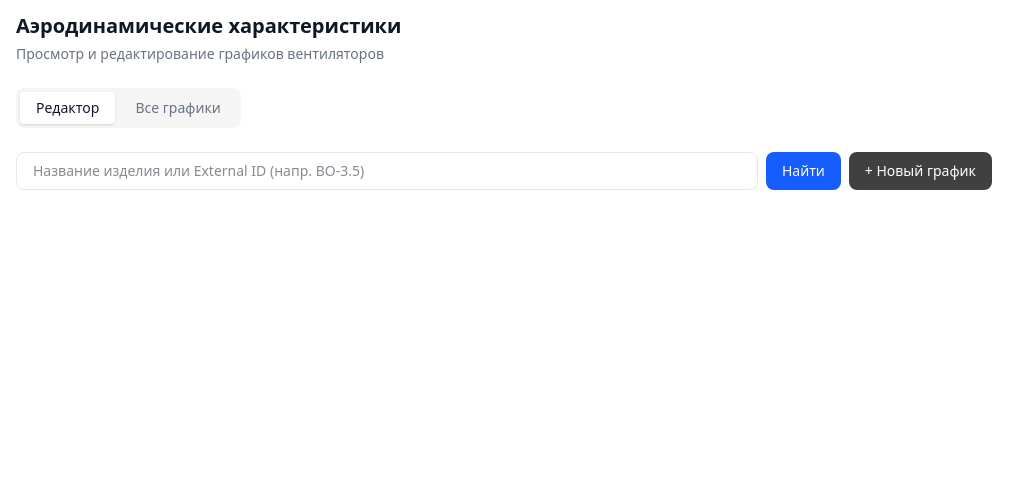
FanChartPage — поиск и выбор графика › ищет графики и рендерит список карточек
Step 1. Type "ВО-3.5" into the field with placeholder "Название изделия или External ID (напр. ВО-3.5)" → (387, 171), box [16,152,758,190]
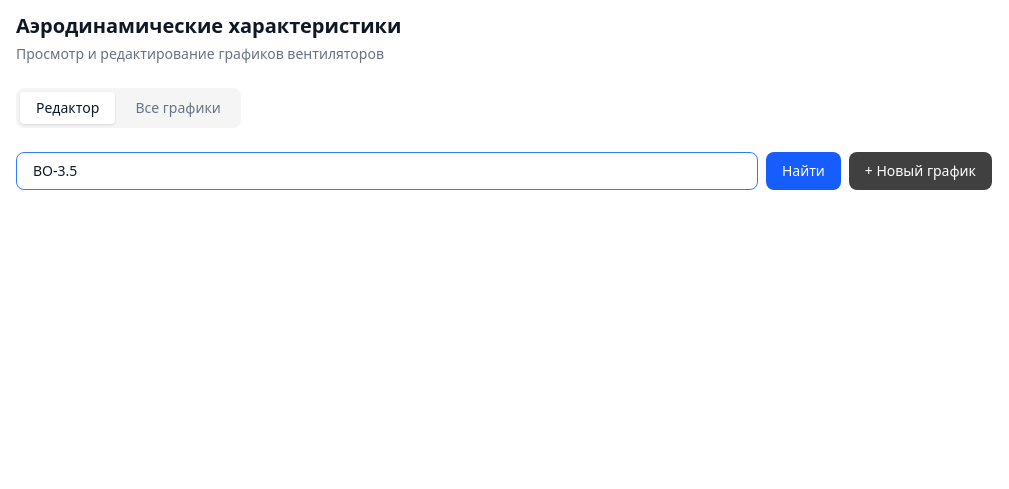
Step 2. Click the button "Найти" → (803, 171), box [766,152,841,190]
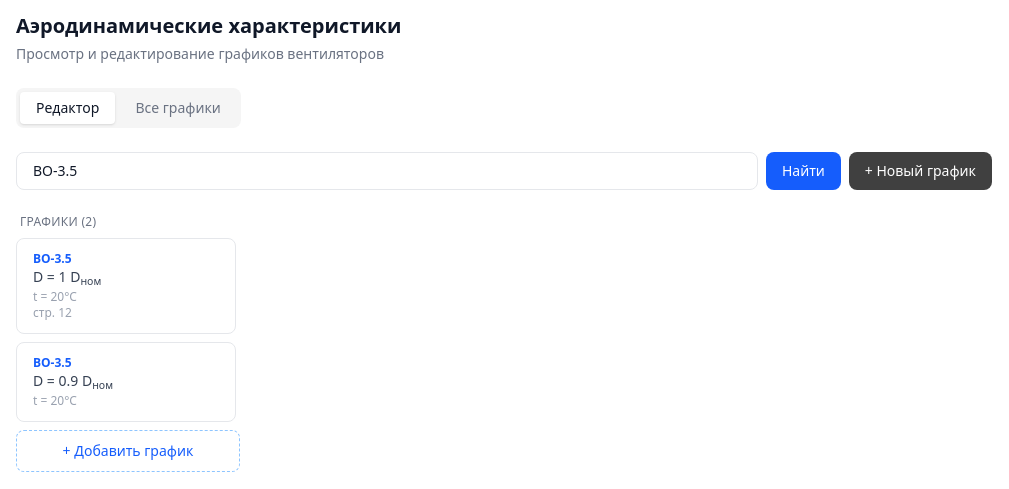
Result: the text "Графики (2)" is shown at [20,213,96,230]
Result: the 1st text "ВО-3.5" is shown at [33,250,72,267]
Result: the text "t = 20°C" is shown 2 times at [33,288,77,305]; [33,392,77,409]
